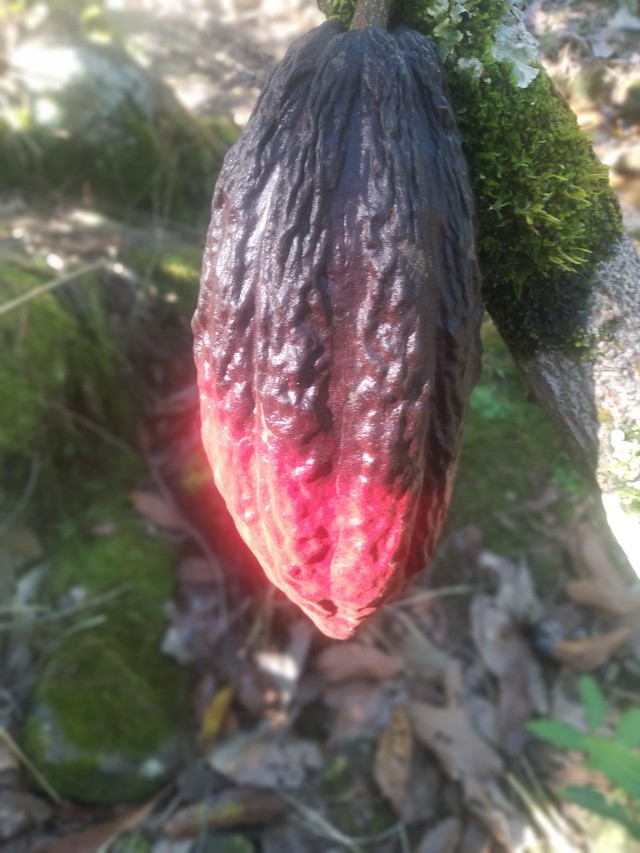phytophthora palmivora: (183, 6, 496, 652)
